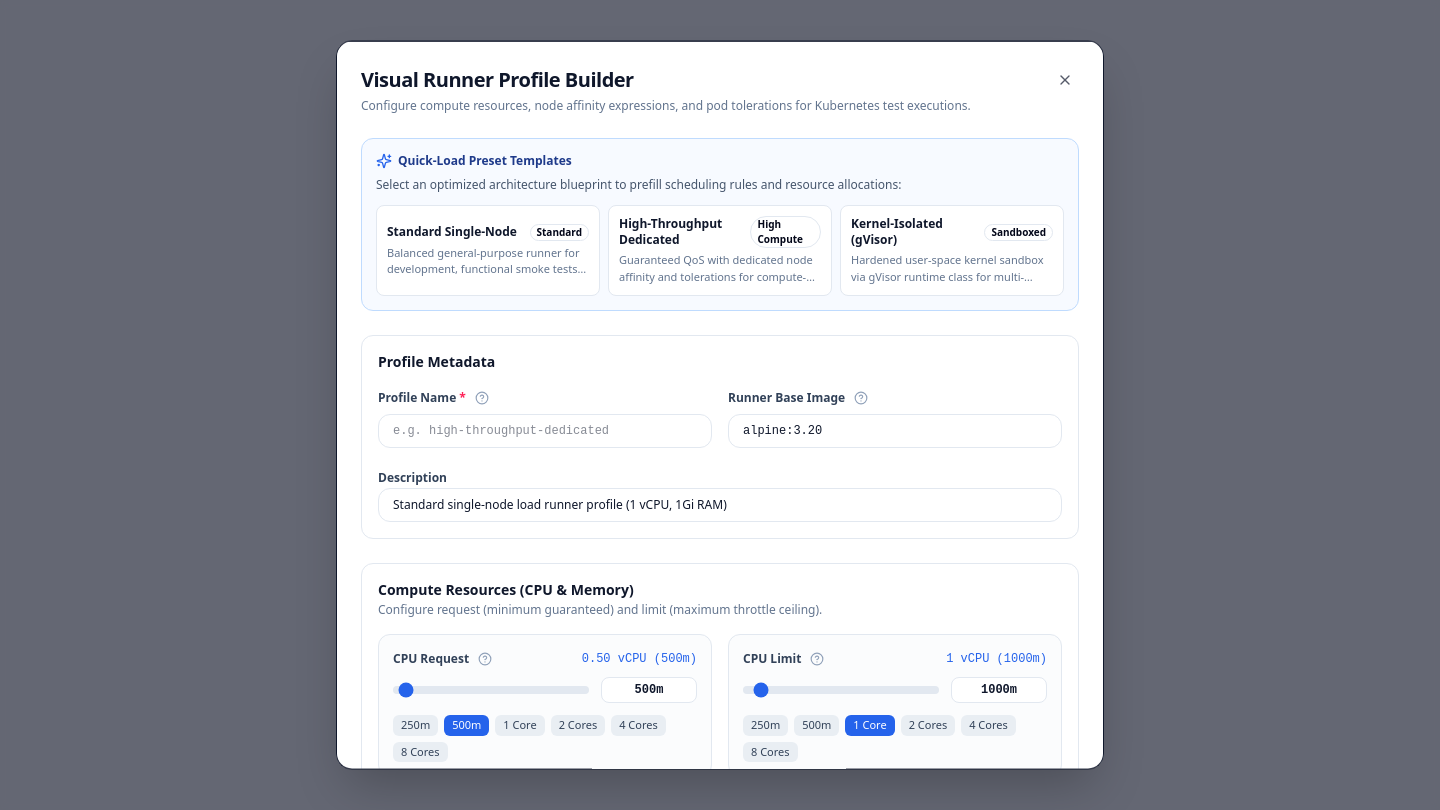
Test: Runner Profiles View & Builder › ProfileBuilderDialog › opens in create mode and applies preset templates
Expected: the heading "Visual Runner Profile Builder" is shown, [361, 66, 634, 92]
Click "High-Throughput Dedicated" preset
Click the button "High-Throughput Dedicated".
click(720, 250)  # box [608, 204, 832, 296]
(page scrolled)
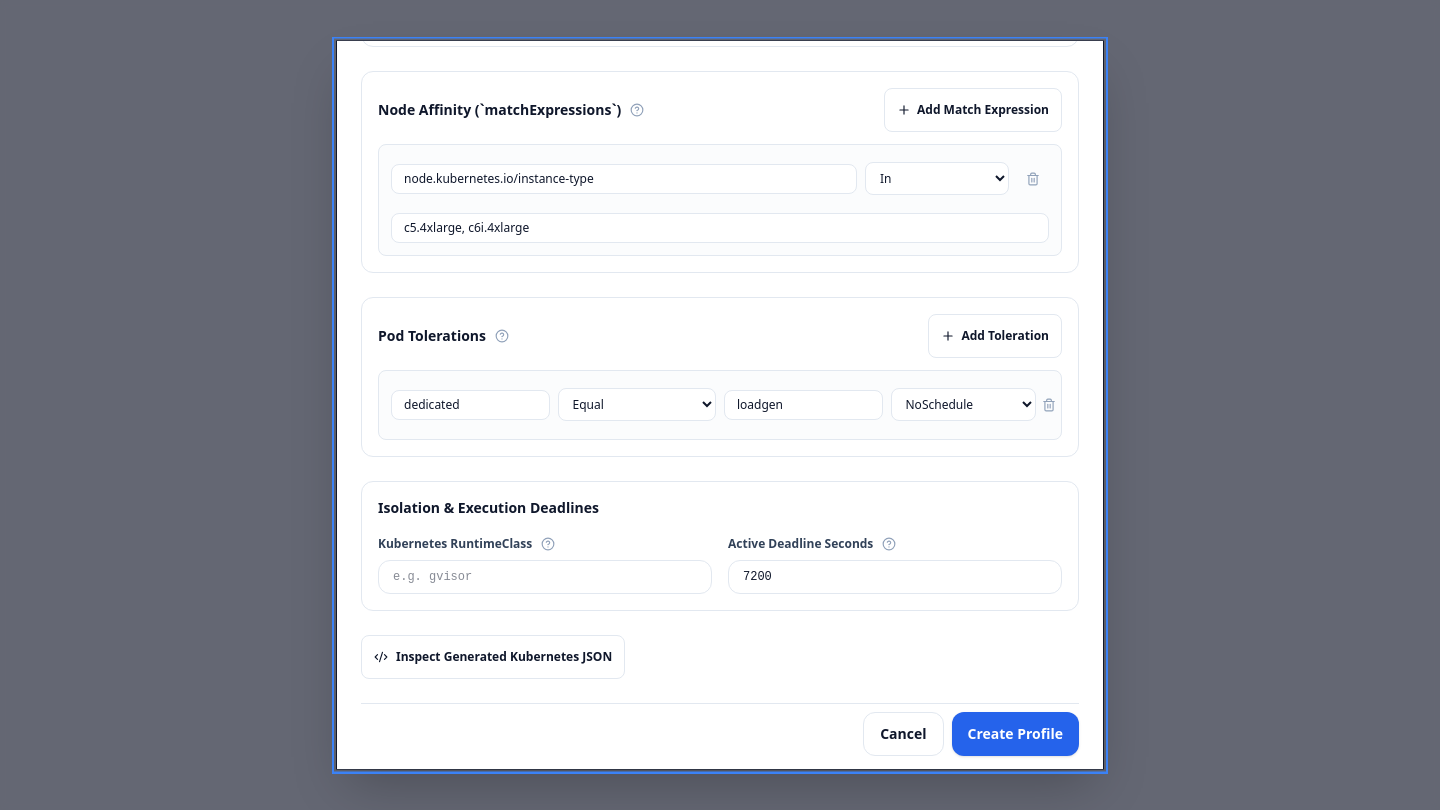
Expected: the field showing "node.kubernetes.io/instance-type" is shown, [391, 164, 857, 194]
Expected: the field showing "dedicated" is shown, [391, 390, 550, 420]
